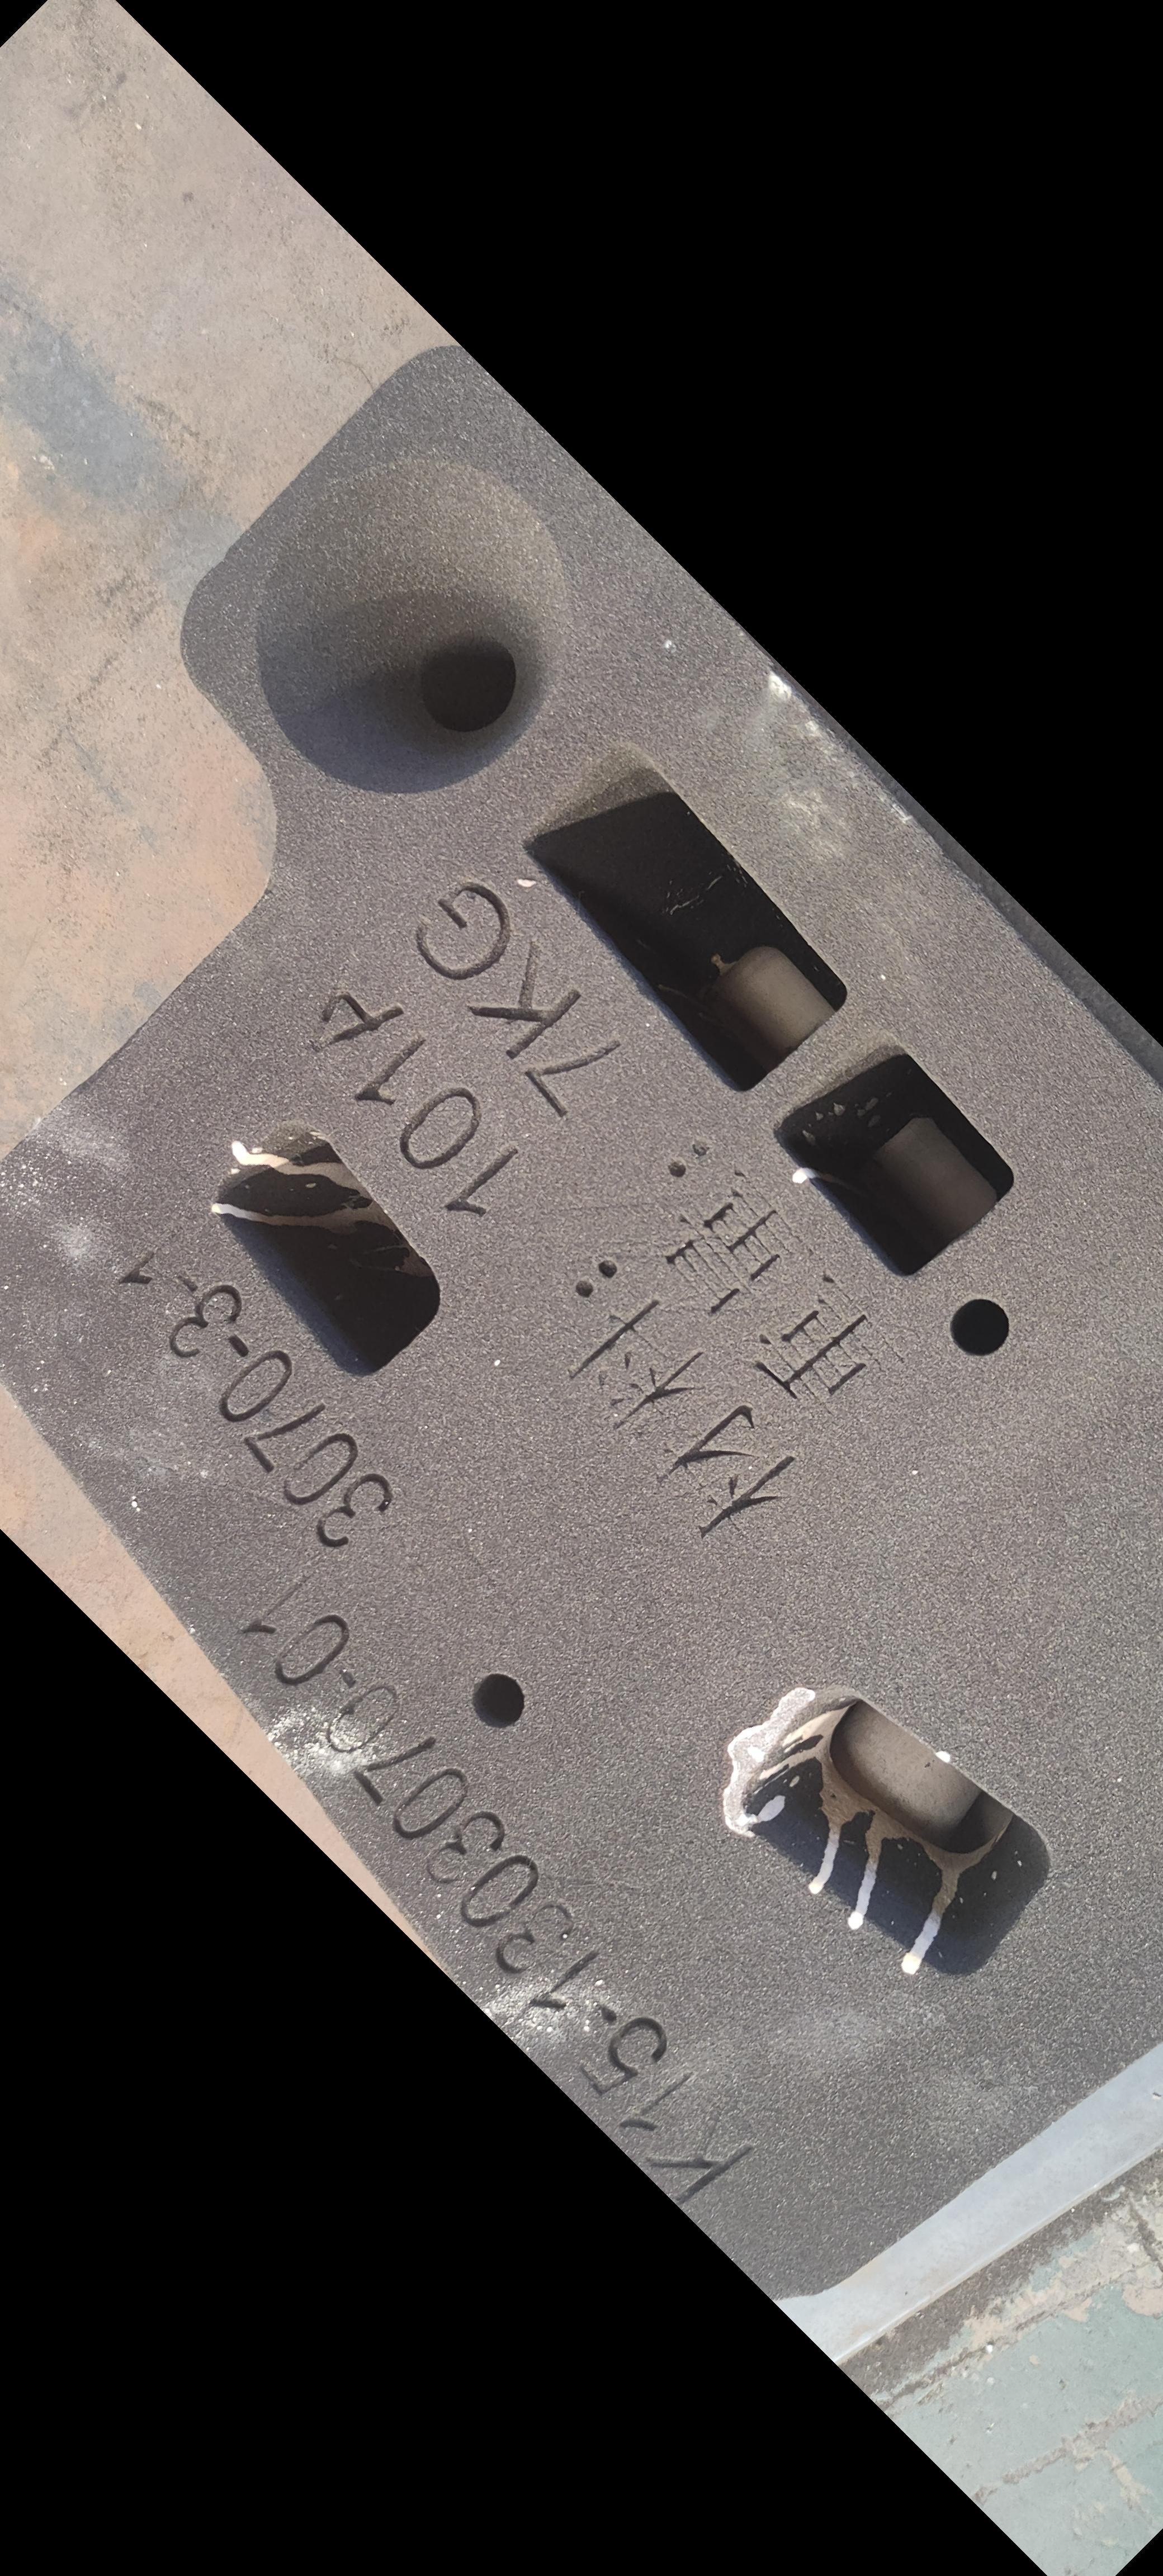pouring hole: (255, 457, 572, 795)
